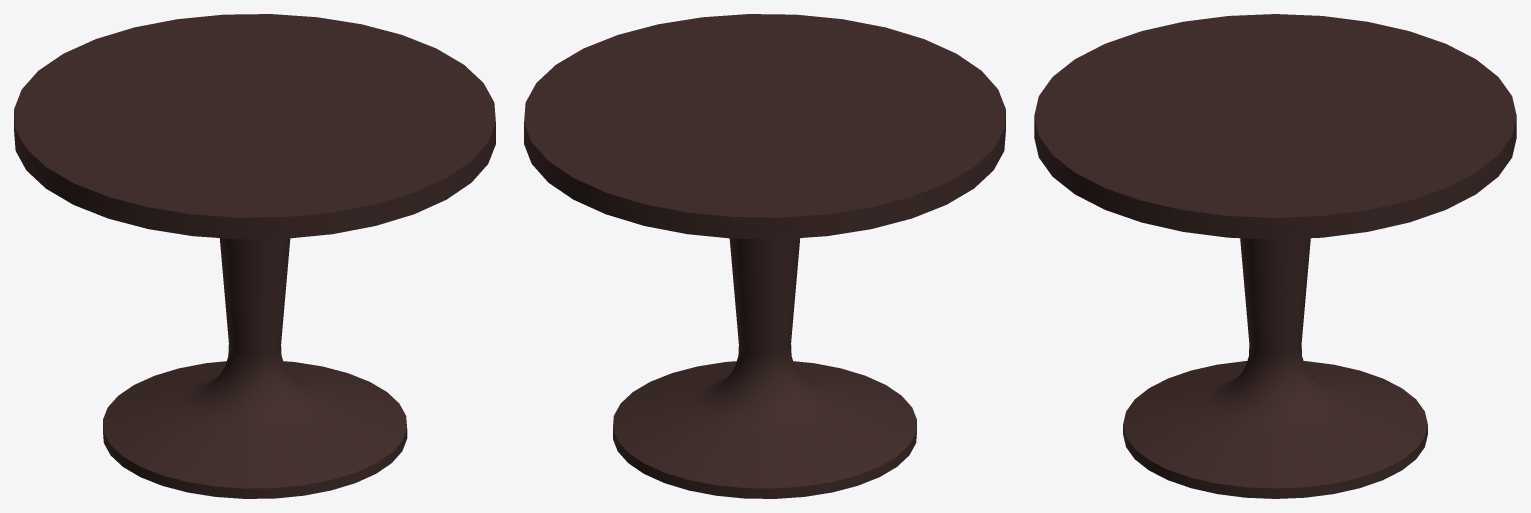
The model's file is TableRonde_4.fbx.
3 views of the same model, side by side, from view 1: azimuth 30°, elevation 25°; view 2: azimuth 150°, elevation 25°; view 3: azimuth 270°, elevation 25° (orthographic).
Visible parts, largest first — view 1: pCylinder1752; view 2: pCylinder1752; view 3: pCylinder1752.
Part boxes in pixels (x1,y1,x2,y2): pCylinder1752: [14, 14, 495, 498]; pCylinder1752: [524, 14, 1005, 498]; pCylinder1752: [1034, 14, 1516, 498].
Size of the model in its own units: 50.76 by 36.98 by 50.76.
